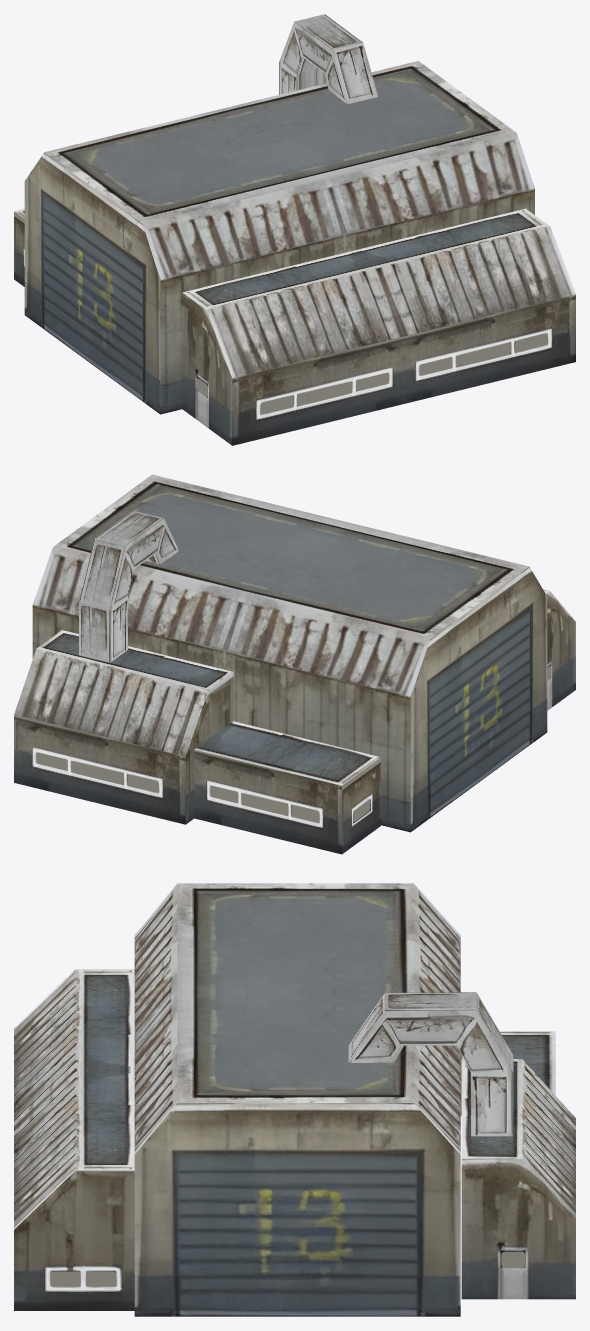
The model's file is vehiclehangar_hdtex.glb.
3 renders of one model, top to bottom at view 1: azimuth 30°, elevation 25°; view 2: azimuth 150°, elevation 25°; view 3: azimuth 270°, elevation 25°, orthographic. The views are drawn at different scales.
Visible parts, largest first — view 1: VehicleHangar, LitWin_Hangar; view 2: VehicleHangar, LitWin_Hangar; view 3: VehicleHangar, LitWin_Hangar.
Boxes of the visible parts, left/top/right/bottom form: VehicleHangar: left=14, top=14, right=575, bottom=445; LitWin_Hangar: left=197, top=334, right=547, bottom=414; VehicleHangar: left=14, top=474, right=575, bottom=854; LitWin_Hangar: left=36, top=666, right=550, bottom=822; VehicleHangar: left=14, top=883, right=575, bottom=1316; LitWin_Hangar: left=50, top=1053, right=525, bottom=1286.
Bounding box in the file's own units: 21.06 × 11.9 × 22.75.
1 material, 1 textured.
